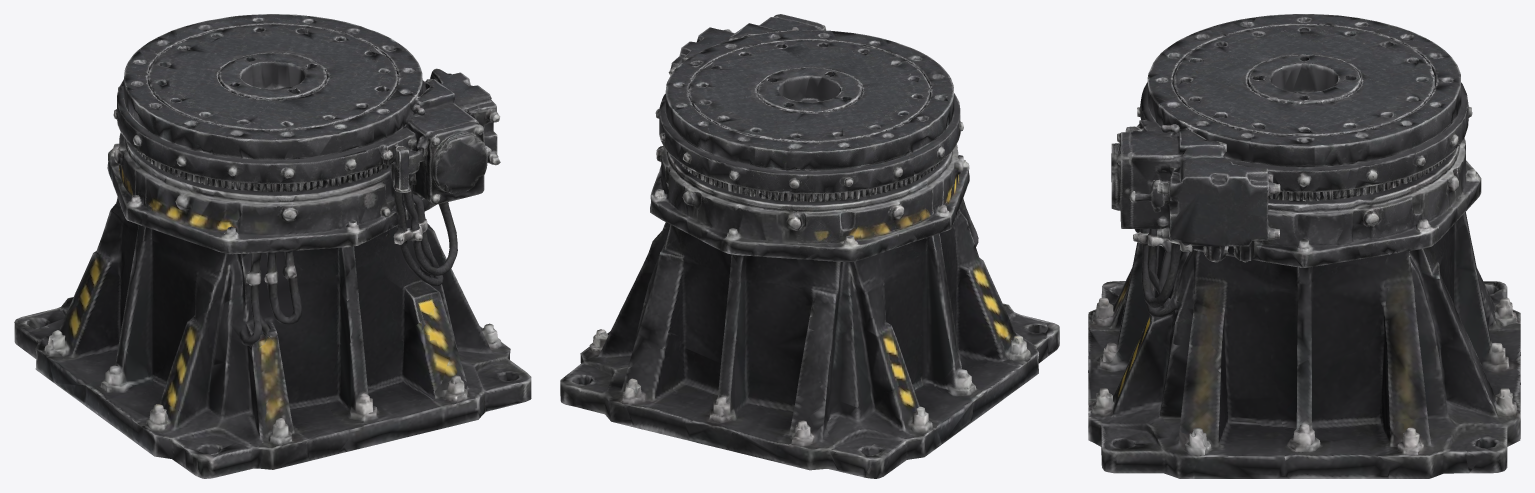
3 renders of one model, left to right at view 1: azimuth 30°, elevation 25°; view 2: azimuth 150°, elevation 25°; view 3: azimuth 270°, elevation 25°, orthographic. The views are drawn at different scales.
Size of the model in its own units: 1.9 by 1.5 by 1.9.
1 material, 1 textured.
